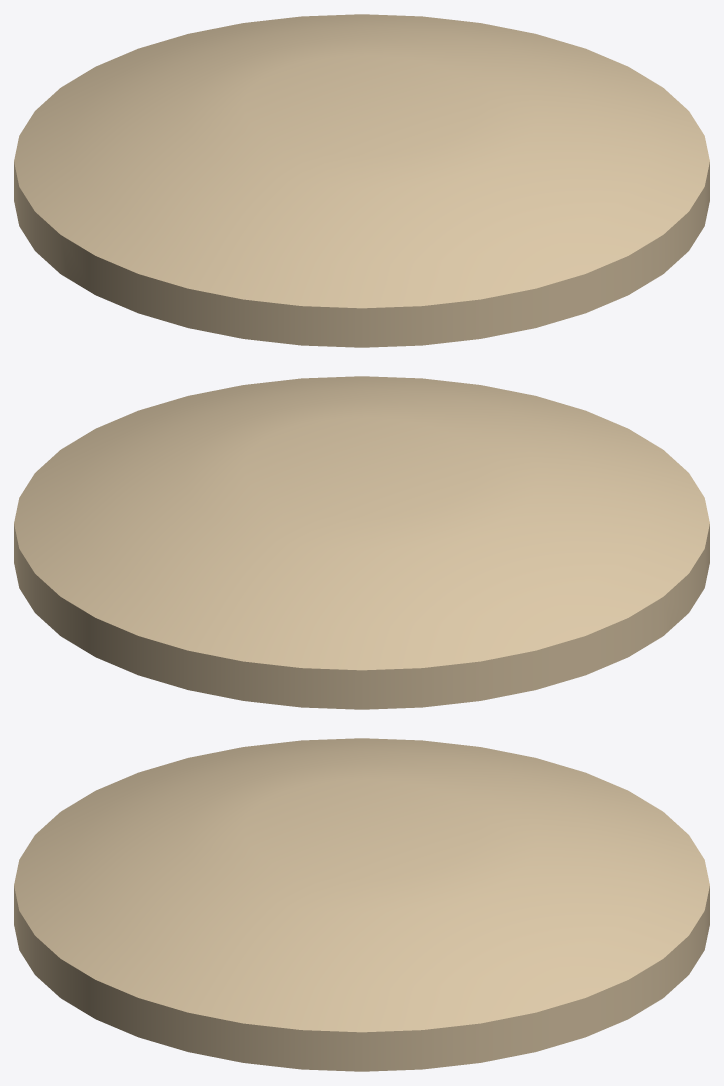
File: original-21.obj
3 views of the same model, one above another, from view 1: azimuth 30°, elevation 25°; view 2: azimuth 150°, elevation 25°; view 3: azimuth 270°, elevation 25° (orthographic).
Visible parts, largest first — view 1: #ID193; view 2: #ID193; view 3: #ID193.
Part boxes in pixels (x1,y1,x2,y2): #ID193: [14, 14, 709, 347]; #ID193: [14, 376, 709, 709]; #ID193: [14, 738, 709, 1071].
Bounding box in the file's own units: 0.0269 × 0.00405 × 0.0269.
